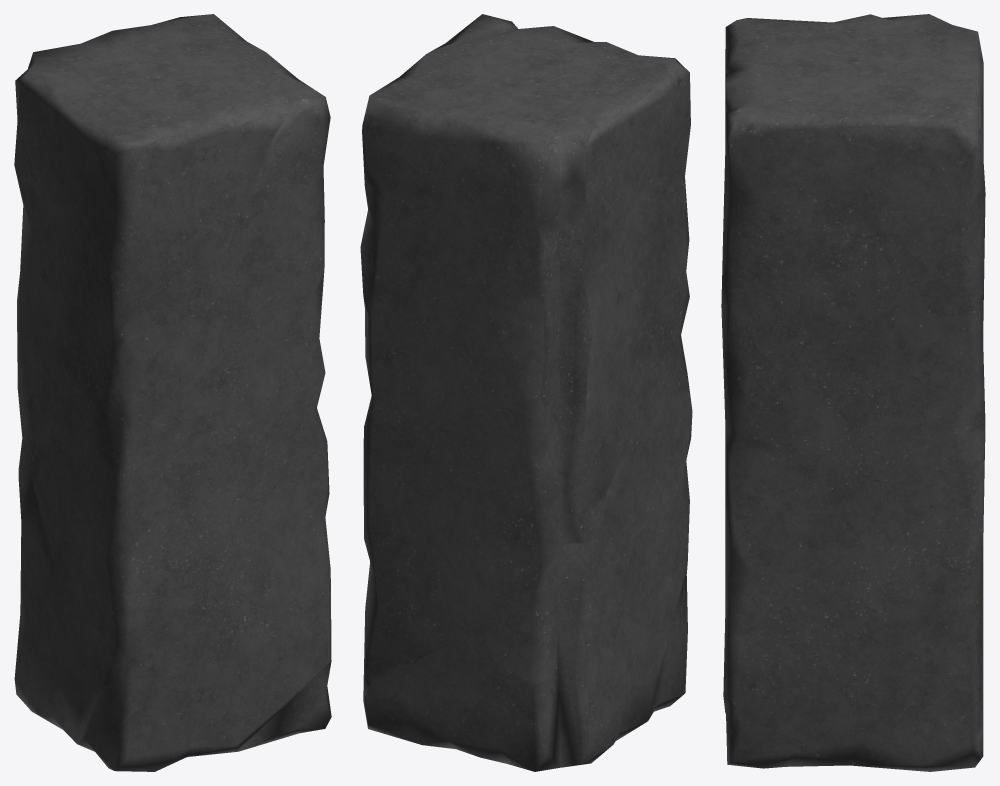
Rendered from SM_ColumnSegmentChiselled1.fbx.
The picture shows the model from 3 angles, left to right: view 1: azimuth 30°, elevation 25°; view 2: azimuth 150°, elevation 25°; view 3: azimuth 270°, elevation 25°; orthographic projection. The views are drawn at different scales.
Parts seen in each view (by area): view 1: SM_ColumnSegmentChiselled1_LOD0; view 2: SM_ColumnSegmentChiselled1_LOD0; view 3: SM_ColumnSegmentChiselled1_LOD0.
Boxes of the visible parts, <box> form: SM_ColumnSegmentChiselled1_LOD0: <box>14,14,331,771</box>; SM_ColumnSegmentChiselled1_LOD0: <box>360,14,692,771</box>; SM_ColumnSegmentChiselled1_LOD0: <box>721,14,985,771</box>.
Size of the model in its own units: 84.4 by 85.97 by 236.
1 material, 1 textured.
